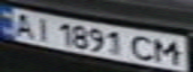1: (103, 28, 127, 56), (51, 19, 75, 46)
8: (69, 22, 90, 51)
9: (87, 26, 106, 53)
A: (6, 9, 39, 38)
C: (127, 33, 160, 63)
I: (30, 15, 57, 43)
M: (151, 37, 187, 66)
